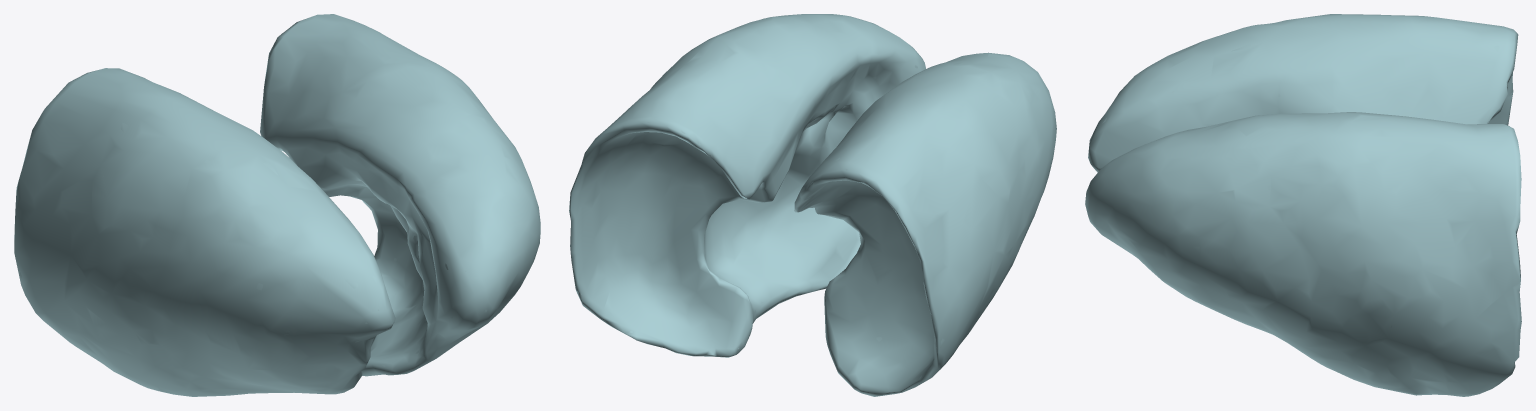
3 renders of one model, left to right at view 1: azimuth 30°, elevation 25°; view 2: azimuth 150°, elevation 25°; view 3: azimuth 270°, elevation 25°, orthographic. The views are drawn at different scales.
Visible parts, largest first — view 1: 胸膜; view 2: 胸膜; view 3: 胸膜.
Boxes of the visible parts, left/top/right/bottom form: 胸膜: left=14, top=14, right=540, bottom=396; 胸膜: left=569, top=14, right=1056, bottom=396; 胸膜: left=1085, top=14, right=1521, bottom=396.
Bounding box in the file's own units: 0.388 × 0.2773 × 0.3893.
